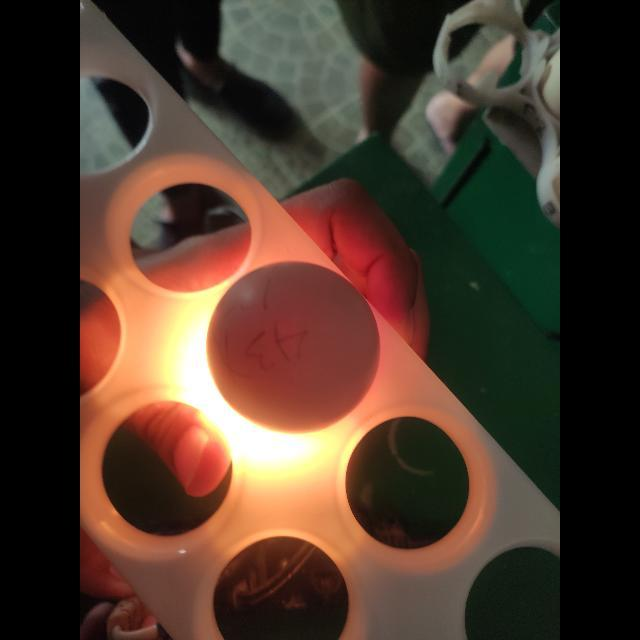Fertile: (202, 255, 386, 437)
